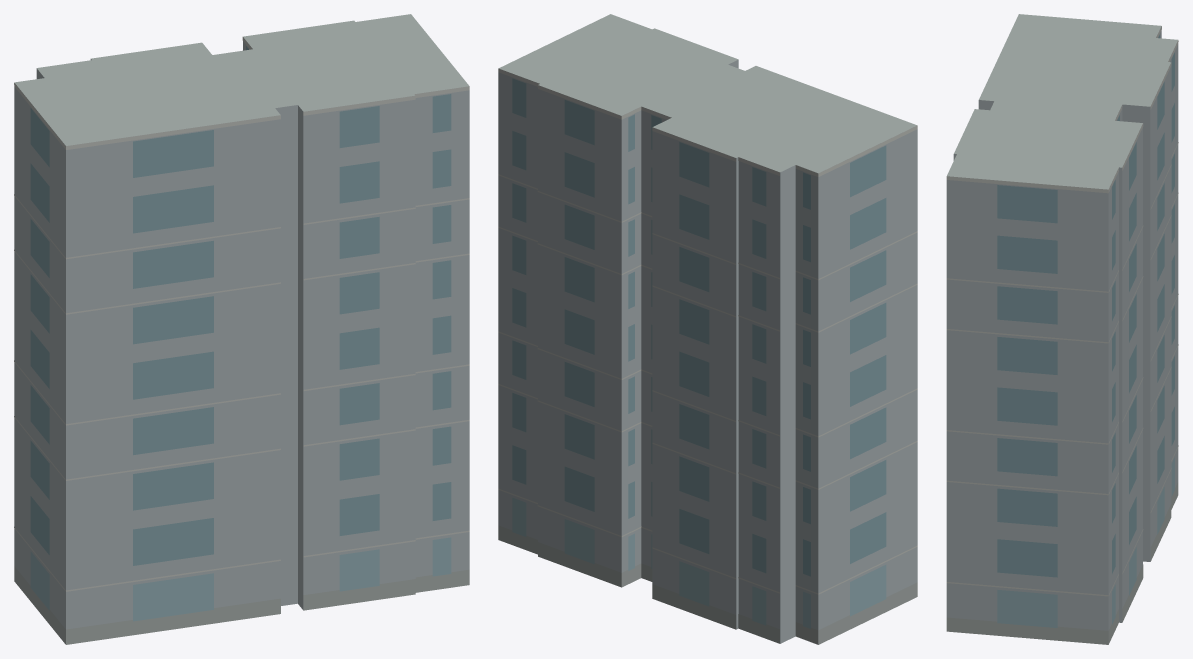
File: survey-upis-32660739.glb
3 renders of one model, left to right at view 1: azimuth 30°, elevation 25°; view 2: azimuth 150°, elevation 25°; view 3: azimuth 270°, elevation 25°, orthographic. The views are drawn at different scales.
Parts seen in each view (by area): view 1: survey-upis-32660739.tmp; view 2: survey-upis-32660739.tmp; view 3: survey-upis-32660739.tmp.
Part boxes in pixels (x1,y1,x2,y2): survey-upis-32660739.tmp: (14,14,469,644); survey-upis-32660739.tmp: (498,14,917,644); survey-upis-32660739.tmp: (946,14,1178,644).
Bounding box in the file's own units: 24.92 × 30.1 × 13.91.
